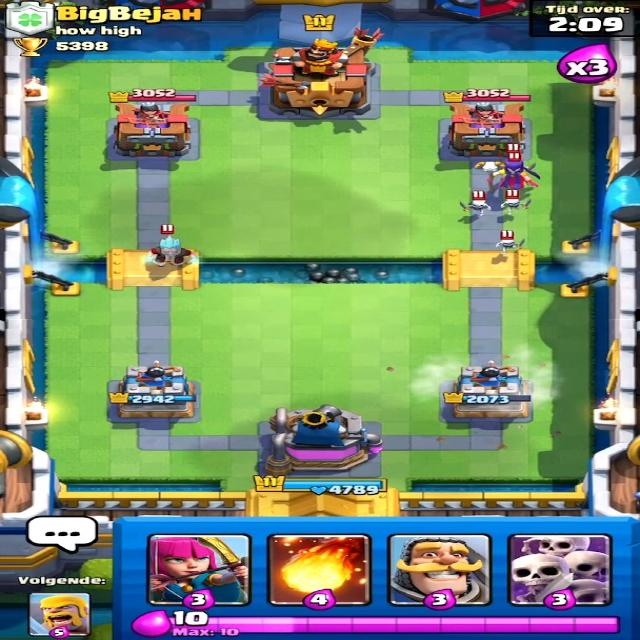Enemy_Ice_Wizard_Troop: (139, 236, 205, 268)
Enemy_Skeleton_Troop: (493, 237, 529, 255), (500, 195, 533, 214), (462, 198, 492, 214)
Enemy_Witch_Troop: (476, 157, 534, 196)
Fireball_Card: (264, 528, 359, 604)
